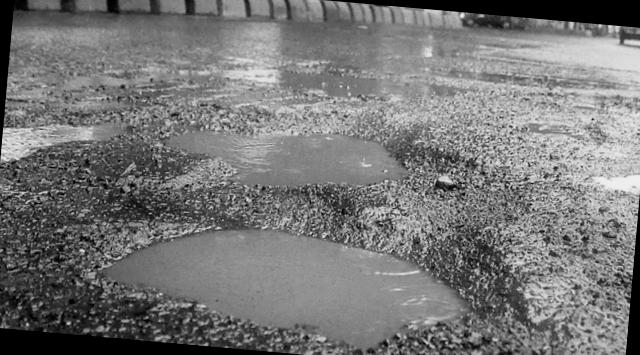Pothole: (84, 204, 527, 355), (163, 111, 465, 216), (0, 97, 139, 189)
